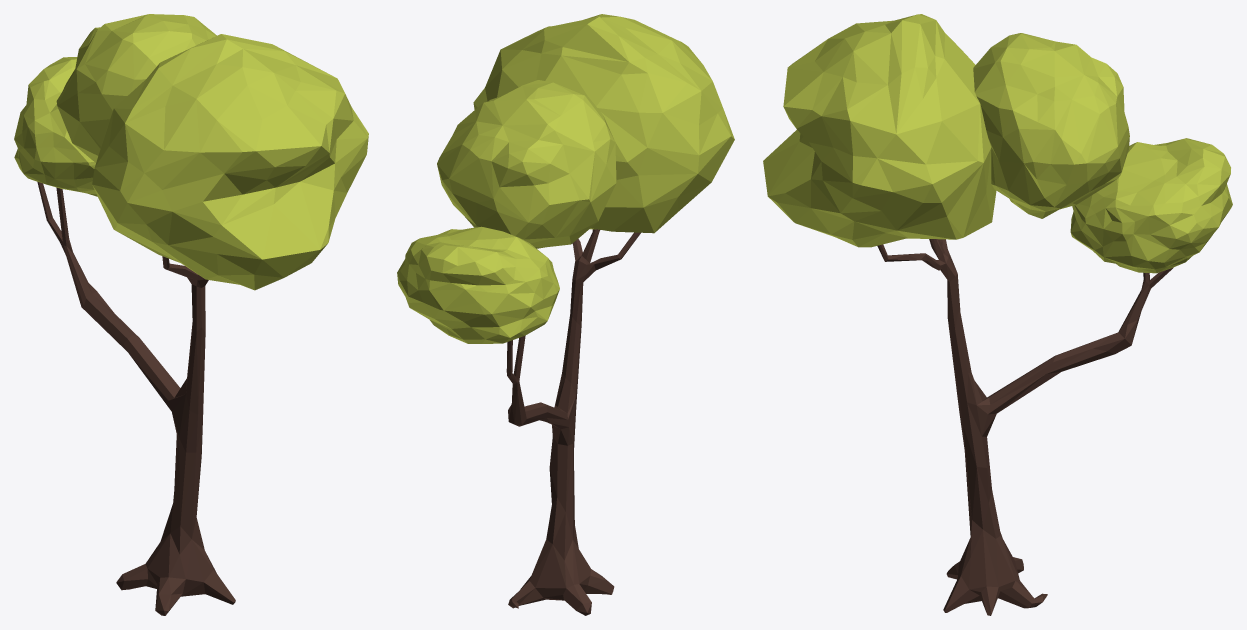
The model's file is New_Tree_13.fbx.
The picture shows the model from 3 angles, left to right: view 1: azimuth 30°, elevation 25°; view 2: azimuth 150°, elevation 25°; view 3: azimuth 270°, elevation 25°; orthographic projection. The views are drawn at different scales.
Parts seen in each view (by area): view 1: Icosphere.100, Cube.019, Icosphere.101, Icosphere.099; view 2: Icosphere.100, Icosphere.101, Icosphere.099, Cube.019; view 3: Icosphere.100, Icosphere.101, Cube.019, Icosphere.099.
Boxes of the visible parts, <box> form: Icosphere.100: <box>92,34,368,290</box>; Cube.019: <box>37,182,235,615</box>; Icosphere.101: <box>56,14,216,162</box>; Icosphere.099: <box>14,57,97,196</box>; Icosphere.100: <box>473,14,734,233</box>; Icosphere.101: <box>437,80,616,248</box>; Icosphere.099: <box>397,226,559,343</box>; Cube.019: <box>506,229,640,615</box>; Icosphere.100: <box>763,14,996,247</box>; Icosphere.101: <box>973,33,1129,218</box>; Cube.019: <box>877,239,1173,615</box>; Icosphere.099: <box>1070,138,1232,273</box>.
Bounding box in the file's own units: 235 × 541 × 398.
